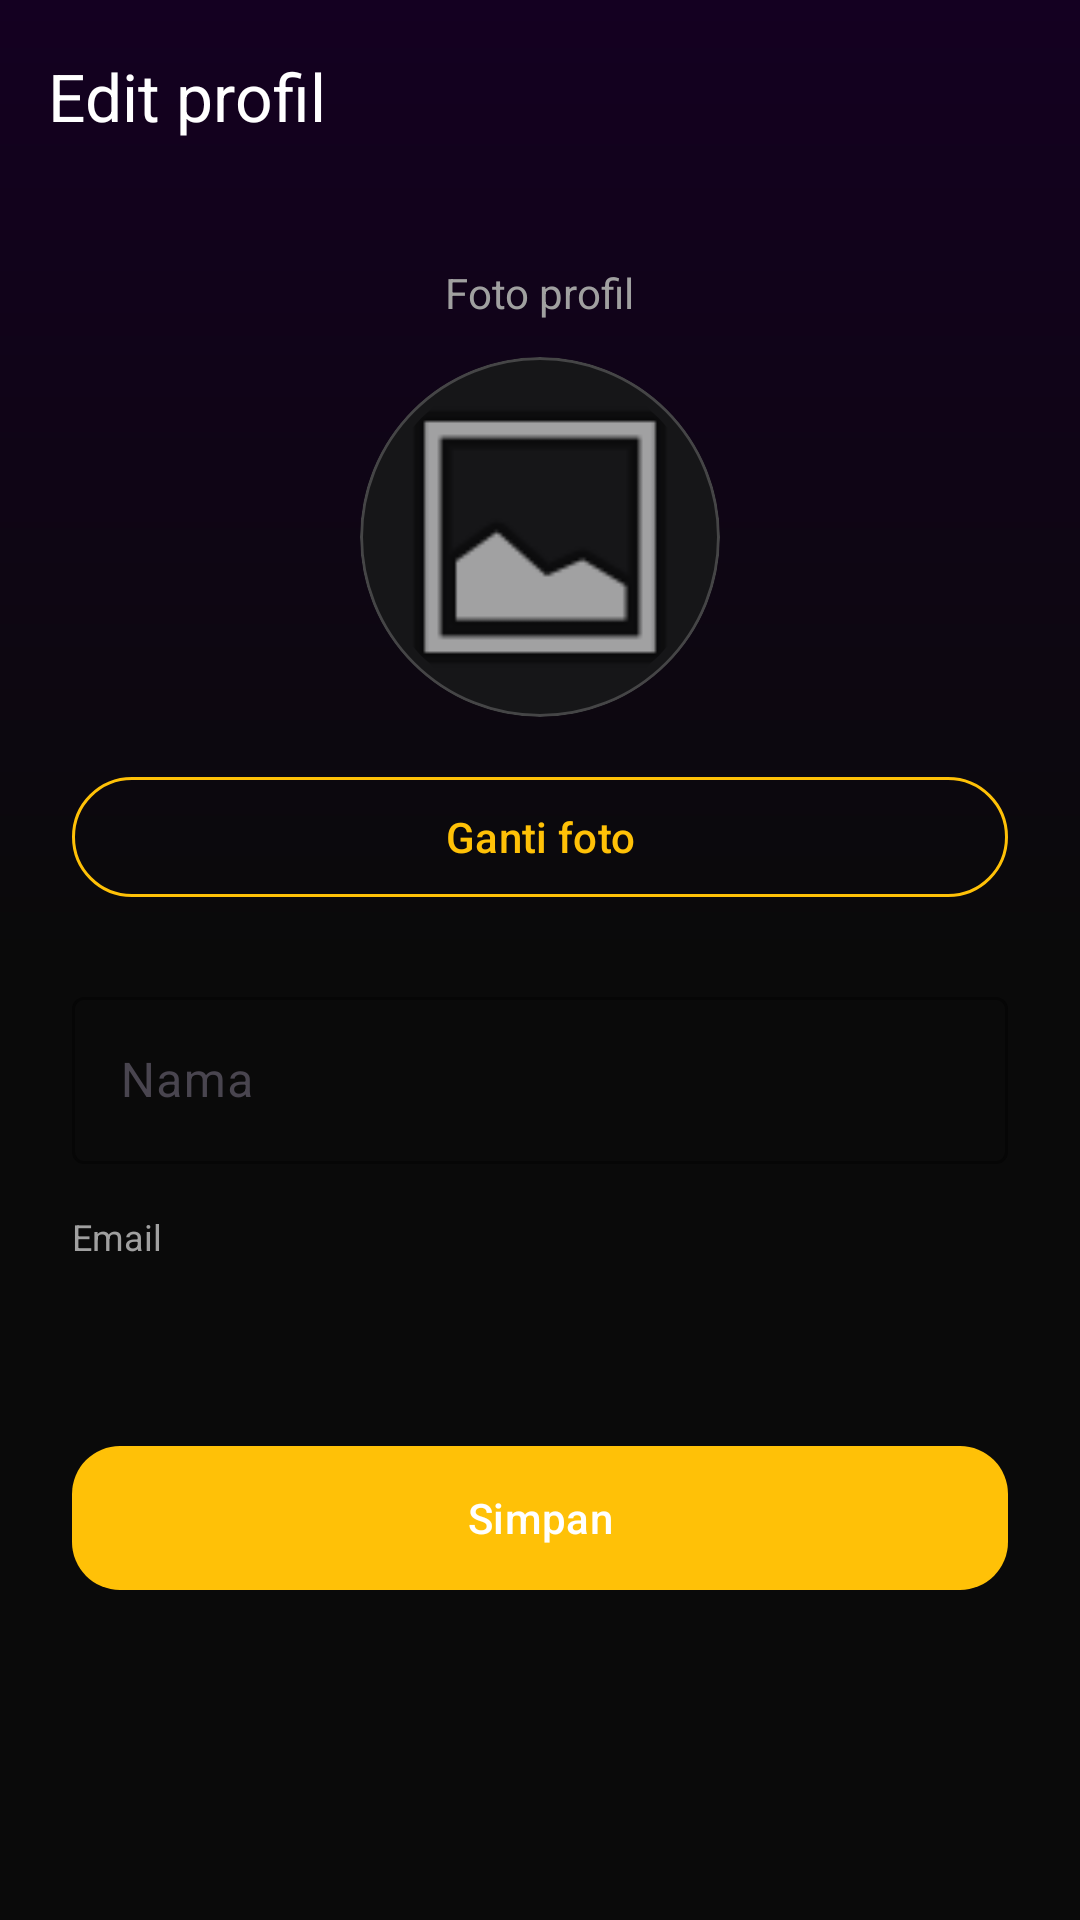

Screen size 1080 x 1920. Icon name, then its box in pixels as (x1, y1, x2, y2):
gallery: (360, 357, 720, 717)
